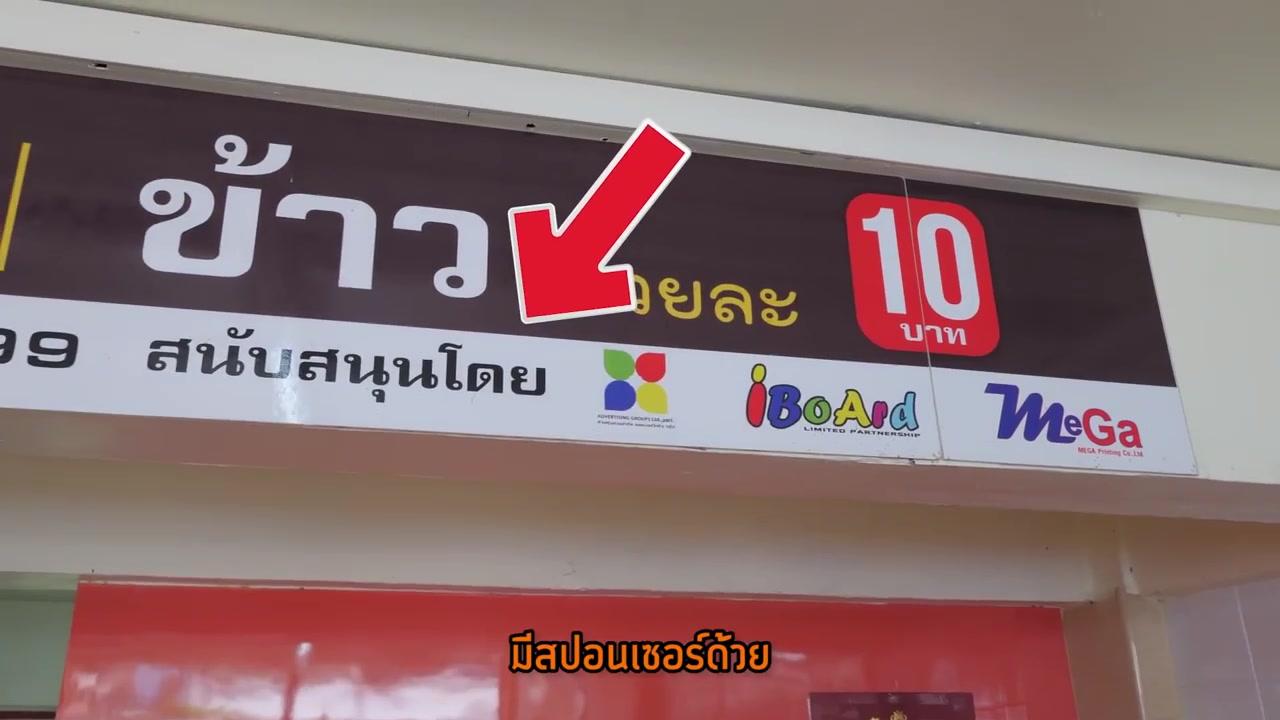text-label: (504, 623, 775, 675)
